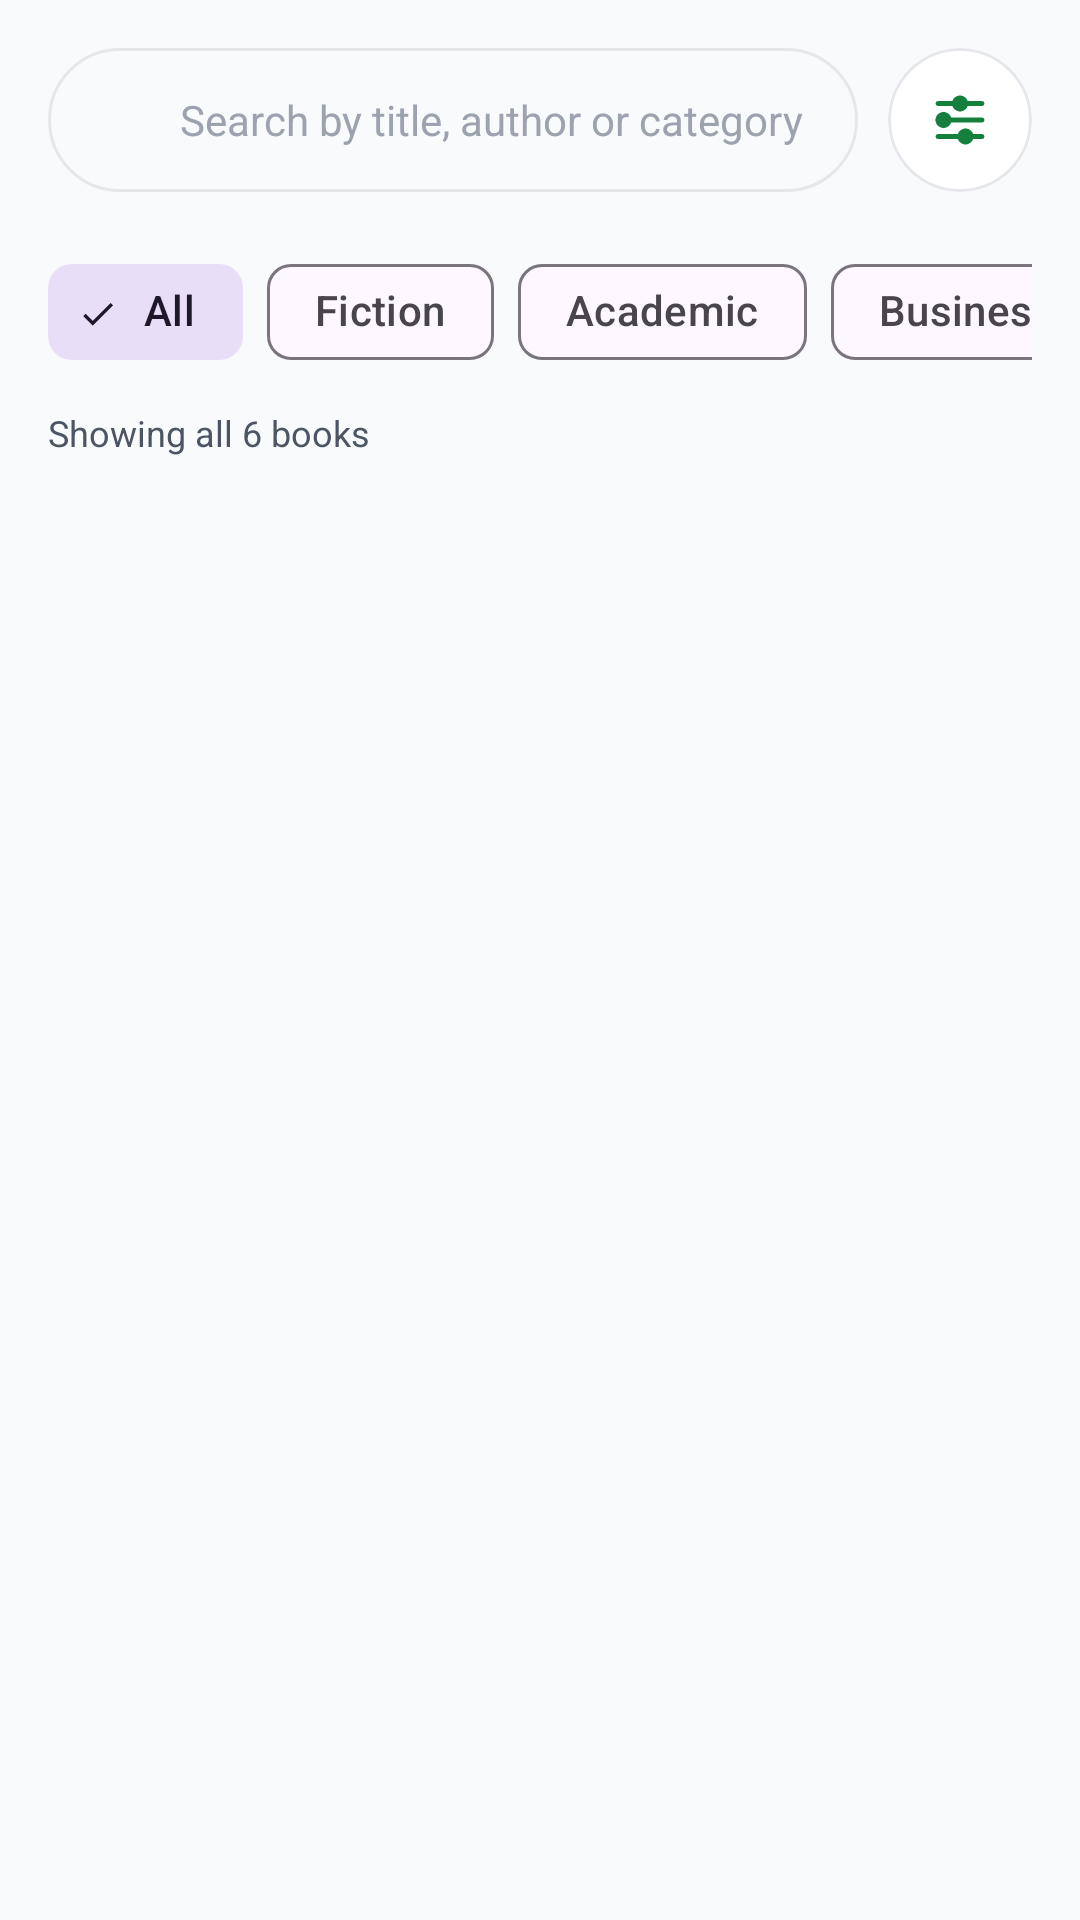

Icon click points for this 1080px×1920px phone screenshot, format [x,y]:
tune filter: [960,120]
